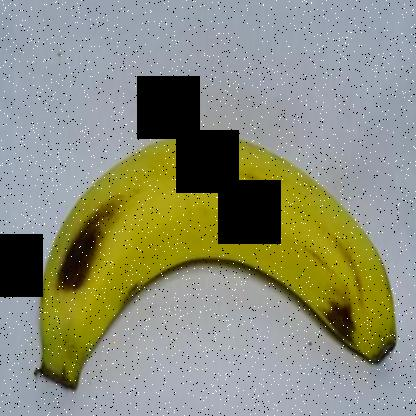freshripe: (18, 124, 412, 406)
